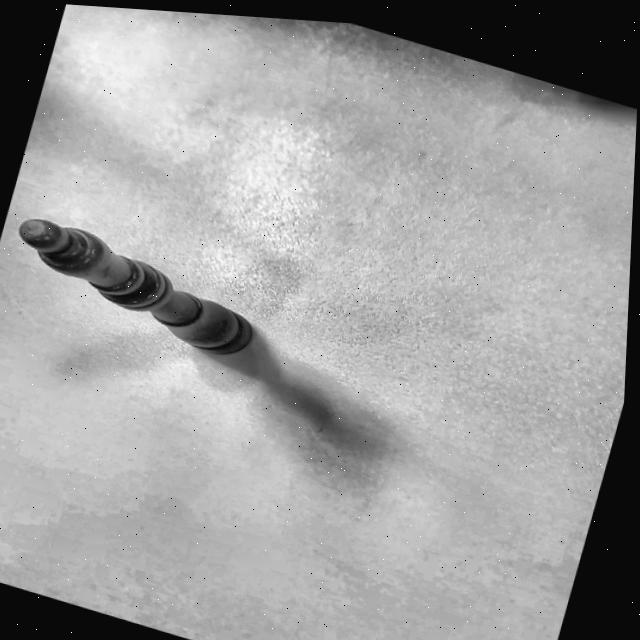black-queen: (0, 199, 289, 378)
